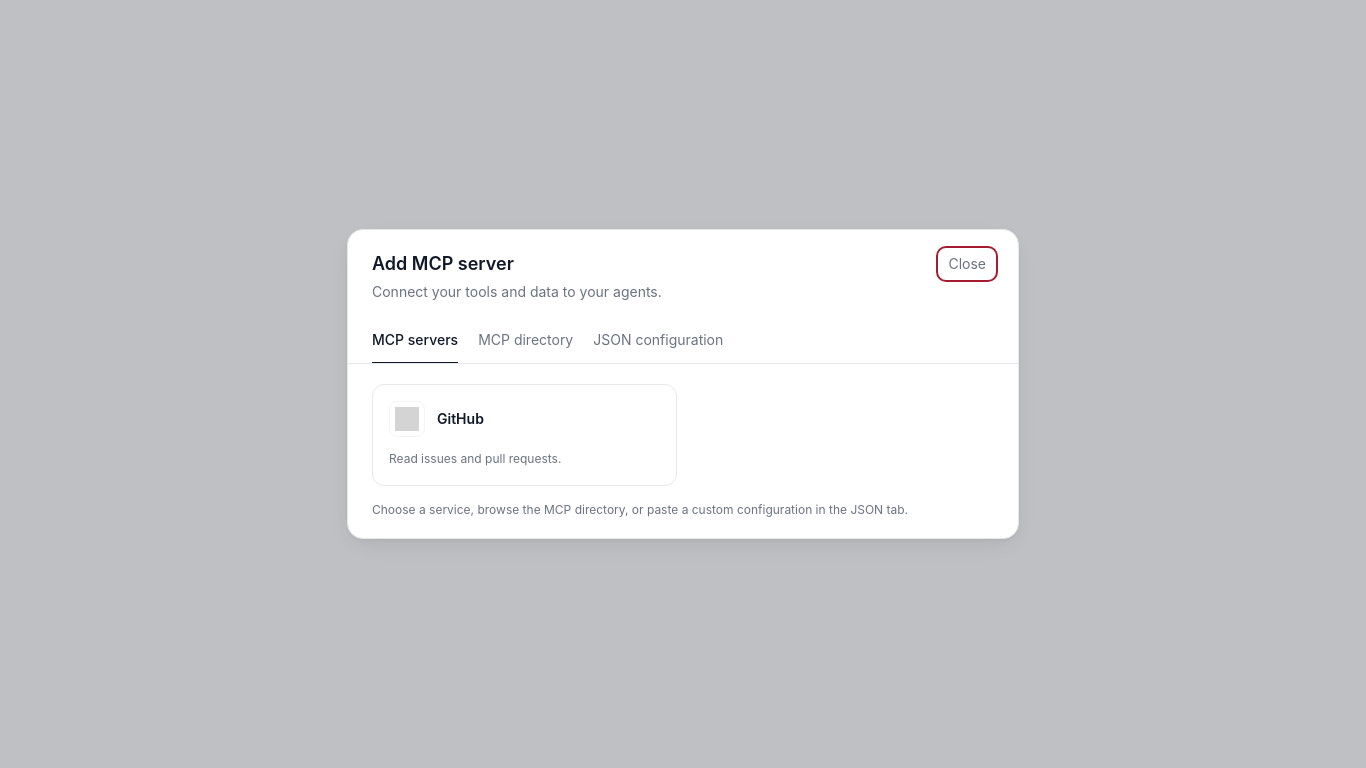
Test: McpAddDialog › browses synced servers in a separate directory tab
This screenshot has width=1366, height=768.
Click the button "MCP directory".
click(526, 341)  # box [478,318,573,364]
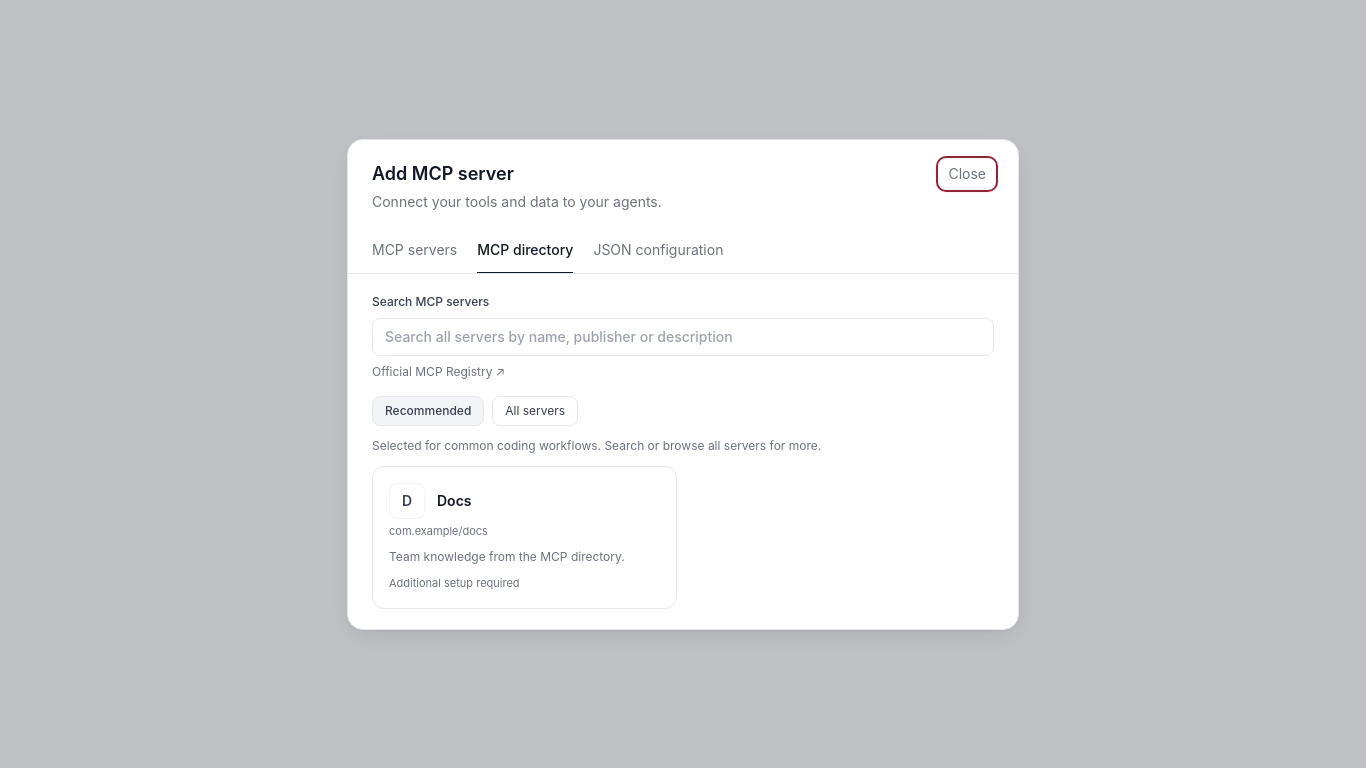
expect the button "Docs" is shown: met, box [372,466,677,608]
expect the button "GitHub" is gone: met
Type "knowledge" into the search field labelled "Search MCP servers".
click(683, 336); type("knowledge")  # box [372,318,994,356]
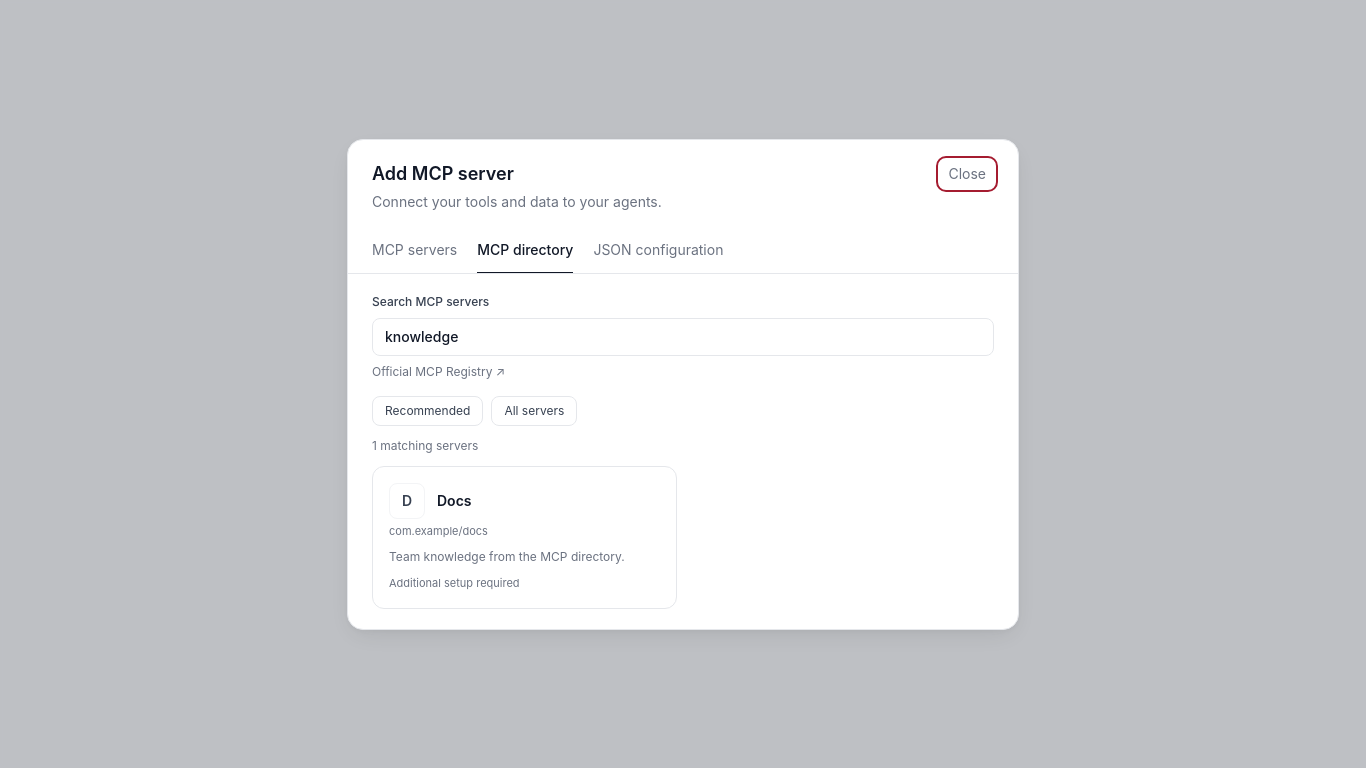
Click the button "MCP servers".
click(415, 250)  # box [372,228,457,274]
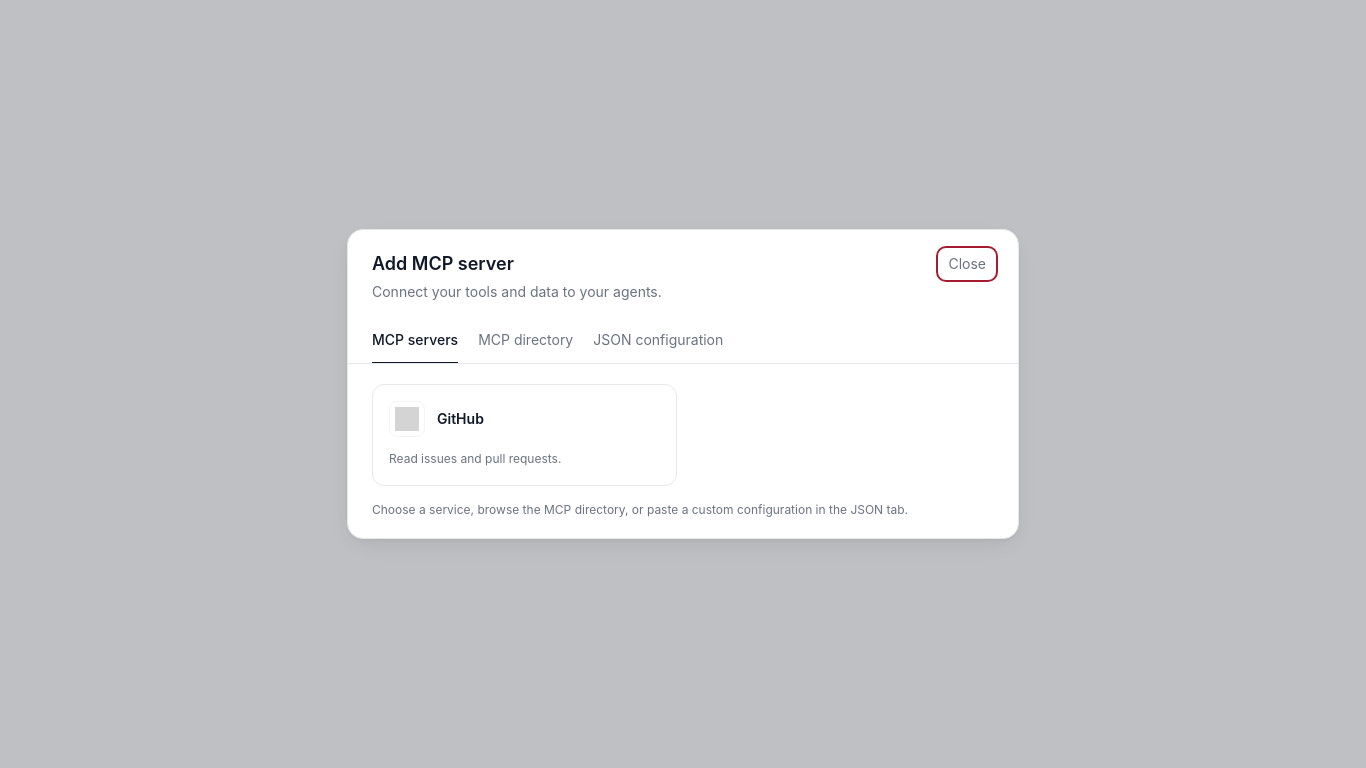
expect the button "GitHub Read issues and pull requests." is shown: met, box [372,384,677,486]
